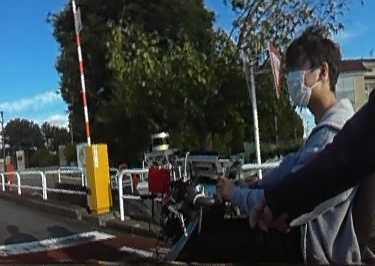person: (198, 25, 357, 266)
